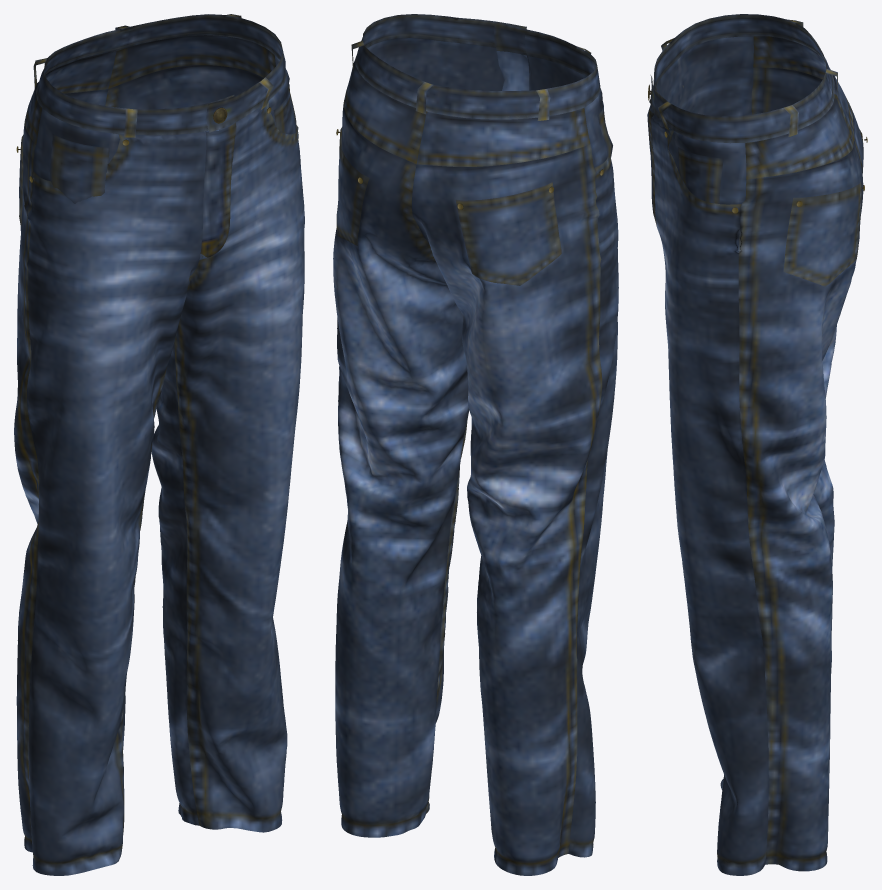
The picture shows the model from 3 angles, left to right: view 1: azimuth 30°, elevation 25°; view 2: azimuth 150°, elevation 25°; view 3: azimuth 270°, elevation 25°; orthographic projection. The views are drawn at different scales.
Parts seen in each view (by area): view 1: pants; view 2: pants; view 3: pants.
Part boxes in pixels (bbox=[...]): pants: bbox=[14, 14, 304, 875]; pants: bbox=[333, 14, 618, 875]; pants: bbox=[647, 14, 867, 875].
Size of the model in its own units: 0.3698 by 1.05 by 0.276.
3 materials, 3 textured.
